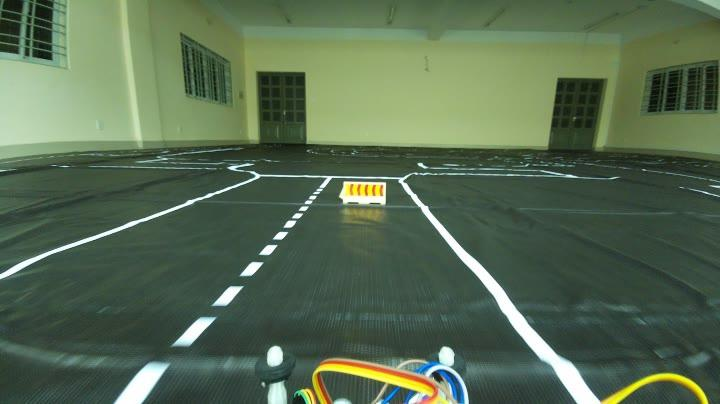roadblock: (334, 174, 393, 218)
